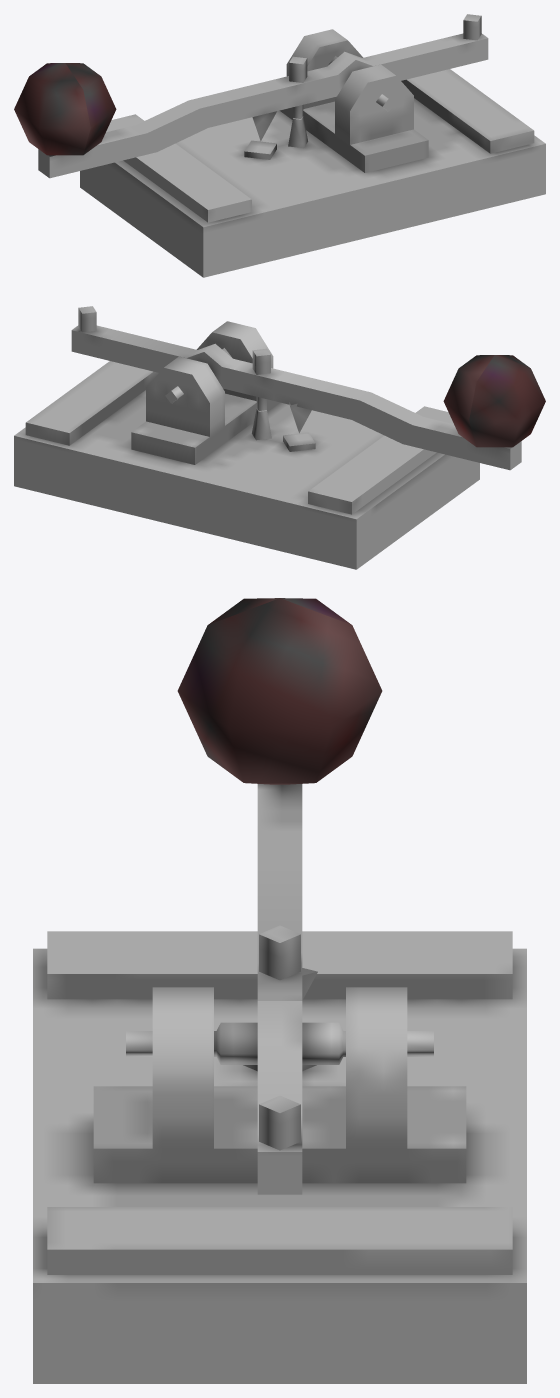
File: TelegraphKey.fbx
The picture shows the model from 3 angles, top to bottom: view 1: azimuth 30°, elevation 25°; view 2: azimuth 150°, elevation 25°; view 3: azimuth 270°, elevation 25°; orthographic projection. The views are drawn at different scales.
Visible parts, largest first — view 1: BézierCurve.012, BézierCurve.006; view 2: BézierCurve.012, BézierCurve.006; view 3: BézierCurve.012, BézierCurve.006.
Part boxes in pixels (bbox=[...]): BézierCurve.012: bbox=[80, 29, 545, 277]; BézierCurve.006: bbox=[14, 14, 488, 178]; BézierCurve.012: bbox=[14, 321, 479, 569]; BézierCurve.006: bbox=[71, 306, 545, 470]; BézierCurve.012: bbox=[33, 931, 526, 1383]; BézierCurve.006: bbox=[126, 598, 433, 1194].
Bounding box in the file's own units: 0.1486 × 0.0585 × 0.0695.
